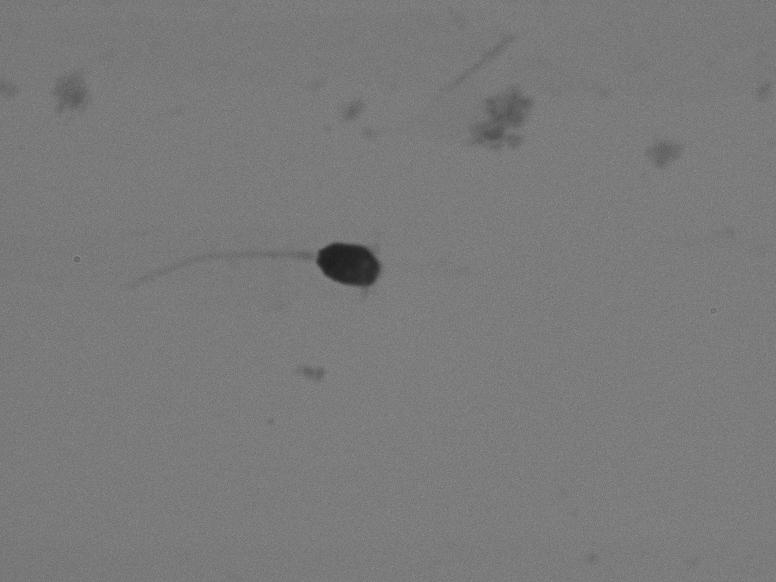Abnormal: (71, 208, 400, 338)
